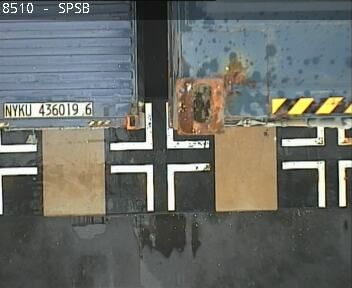groundmarker_1: (109, 164, 213, 210), (106, 103, 209, 149), (281, 159, 352, 206)
